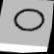no answer: (11, 6, 48, 34)
